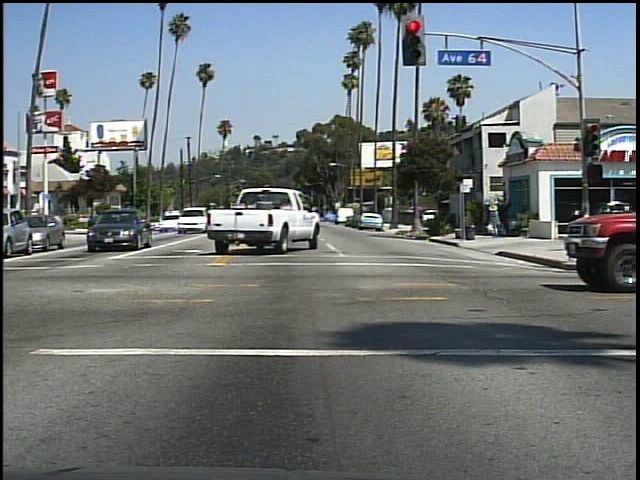person: (483, 199, 508, 242)
